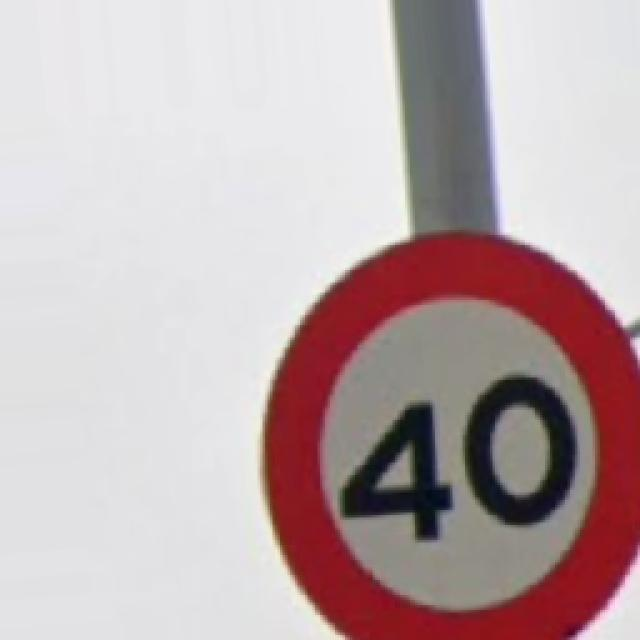Speed Limit -40-: (265, 232, 638, 638)
